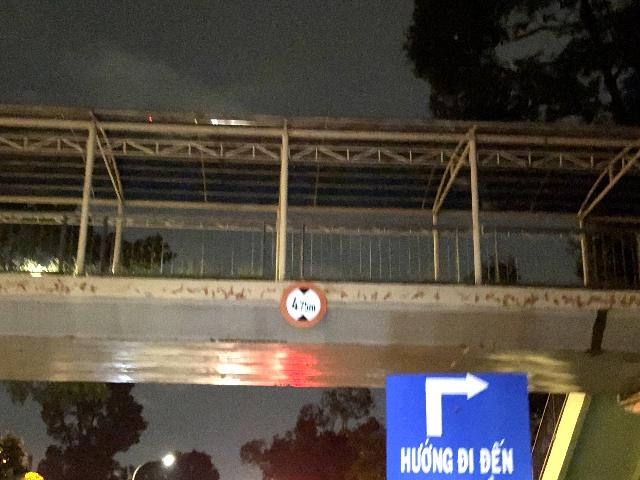han-che-chieu-cao: (279, 282, 327, 328)
